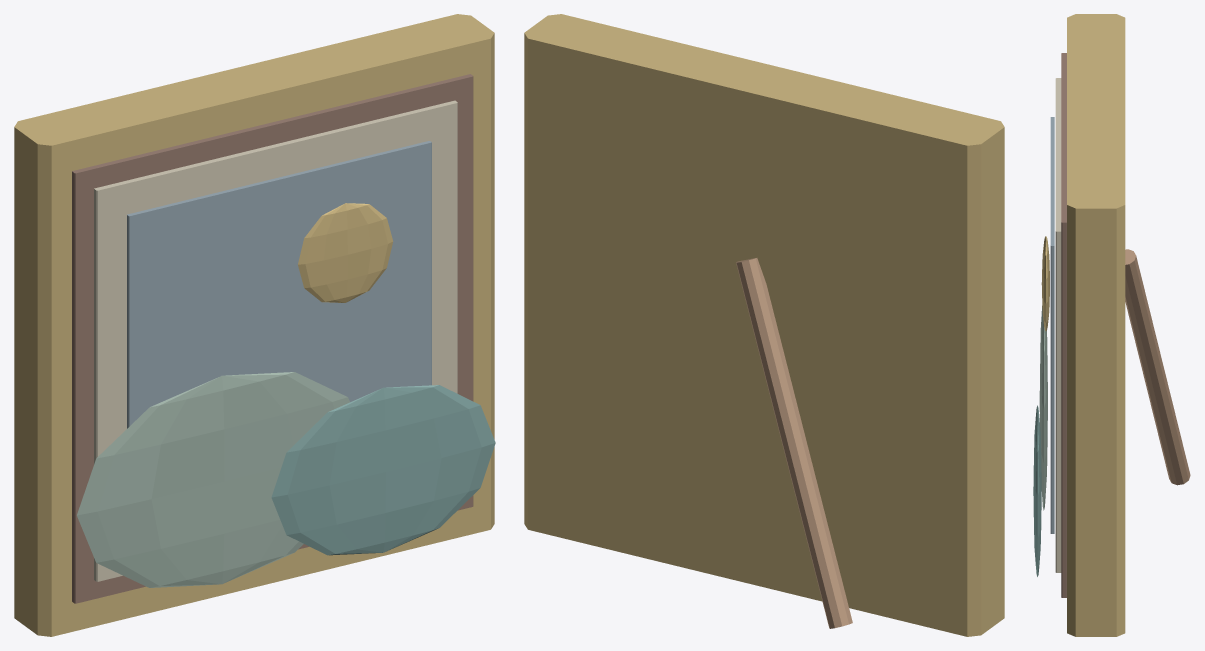
Rendered from framed-picture.glb.
3 views of the same model, side by side, from view 1: azimuth 30°, elevation 25°; view 2: azimuth 150°, elevation 25°; view 3: azimuth 270°, elevation 25° (orthographic). The views are drawn at different scales.
Visible parts, largest first — view 1: framed-picture; view 2: framed-picture; view 3: framed-picture.
Boxes of the visible parts, x1=… form: framed-picture: x1=14, y1=14, x2=495, y2=636; framed-picture: x1=524, y1=14, x2=1004, y2=636; framed-picture: x1=1033, y1=14, x2=1190, y2=636.
Size of the model in its own units: 1.1 by 1.13 by 0.3756.
